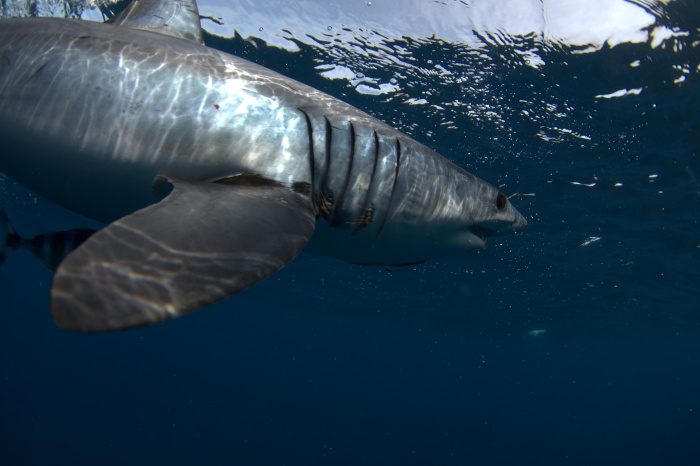Mako: (1, 1, 546, 344)
